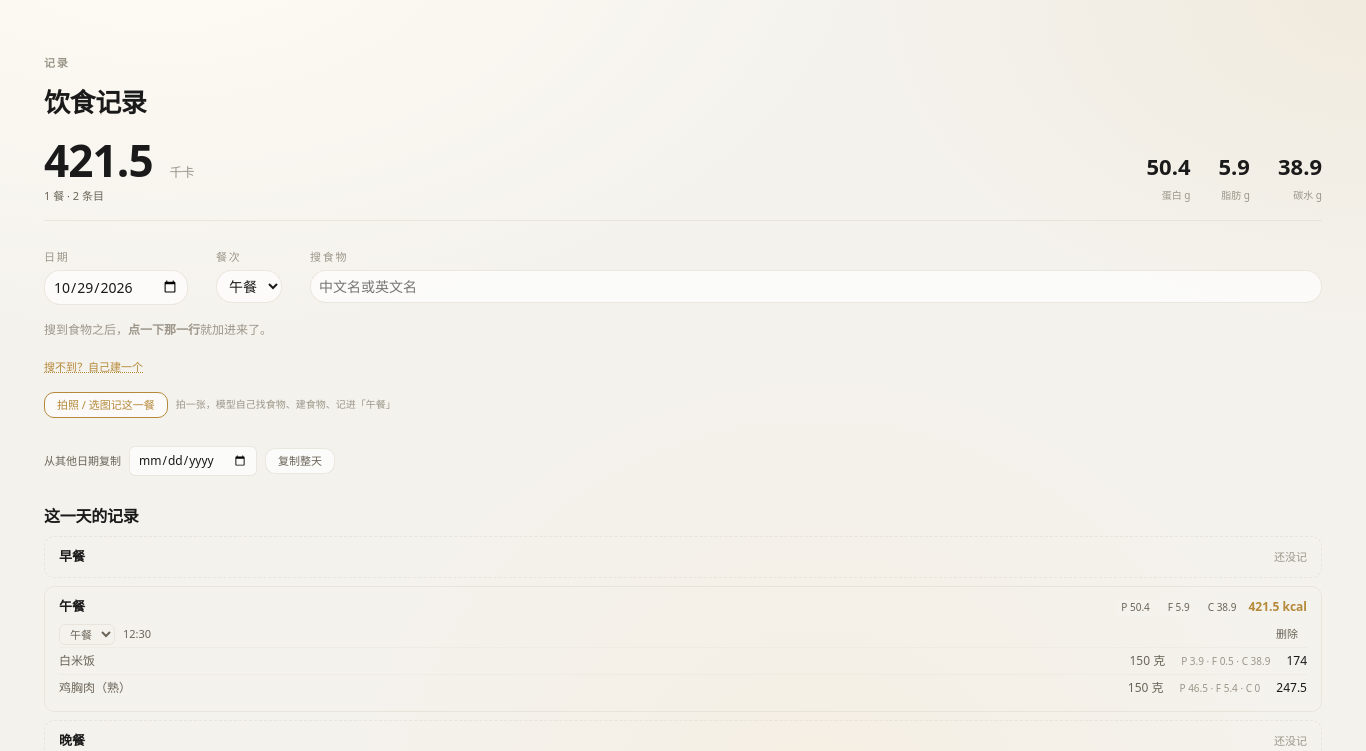
Test: 饮食记录页 · 搜食物与加条目 › the_total_preview_follows_the_rows
Type "白米饭" into the search field labelled "搜食物".
click(816, 286); type("白米饭")  # box [310,270,1322,302]
Wait 300 ms
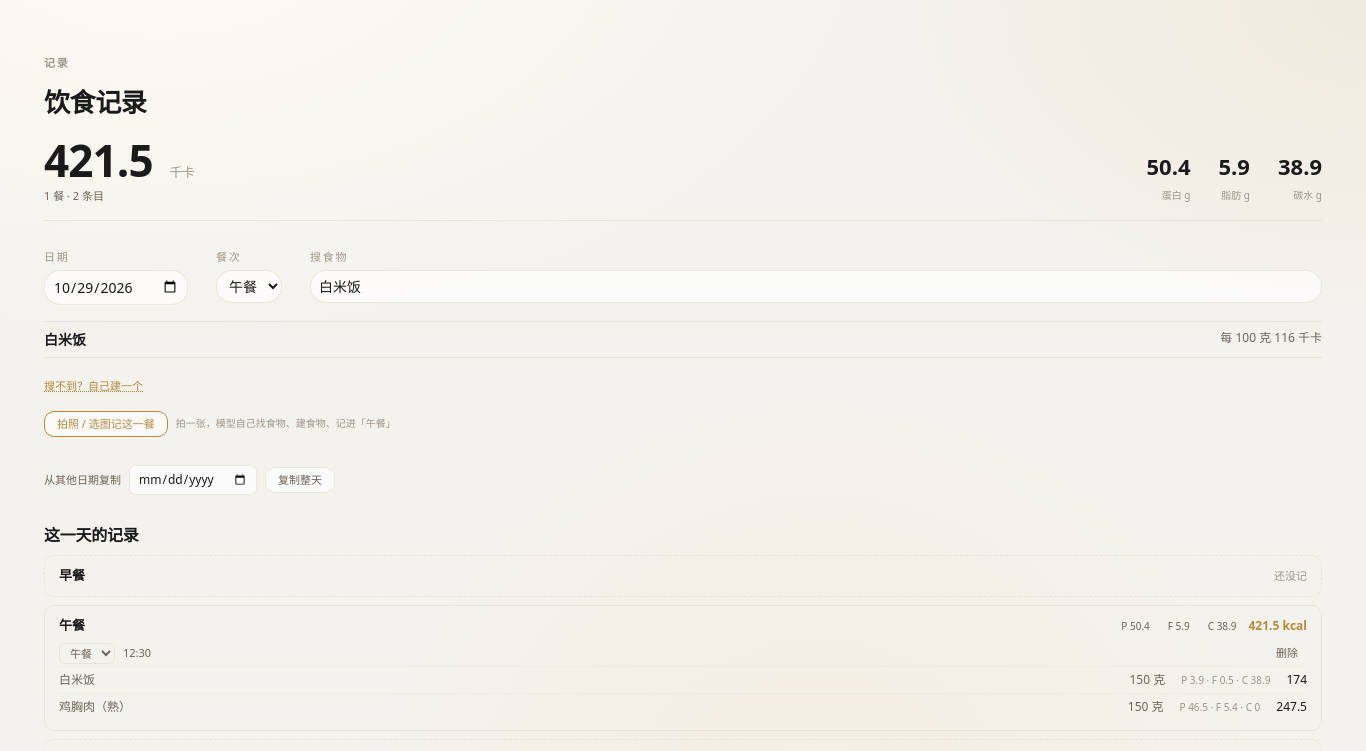
Click the button with class "food".
click(65, 339)  # box [44,322,1322,358]
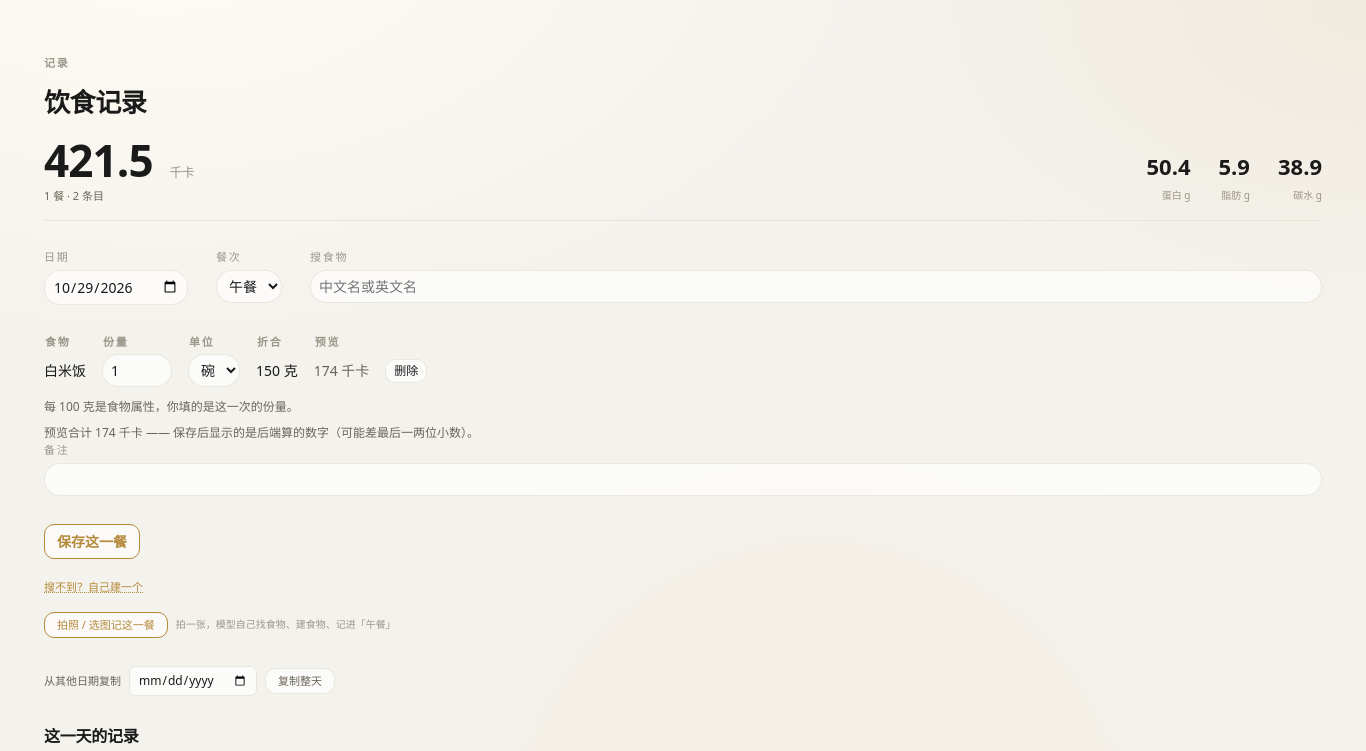
expect the text with class "total" shows "174": met, box [44,424,479,441]
Type "白米饭" into the search field labelled "搜食物".
click(816, 286); type("白米饭")  # box [310,270,1322,302]
Wait 300 ms
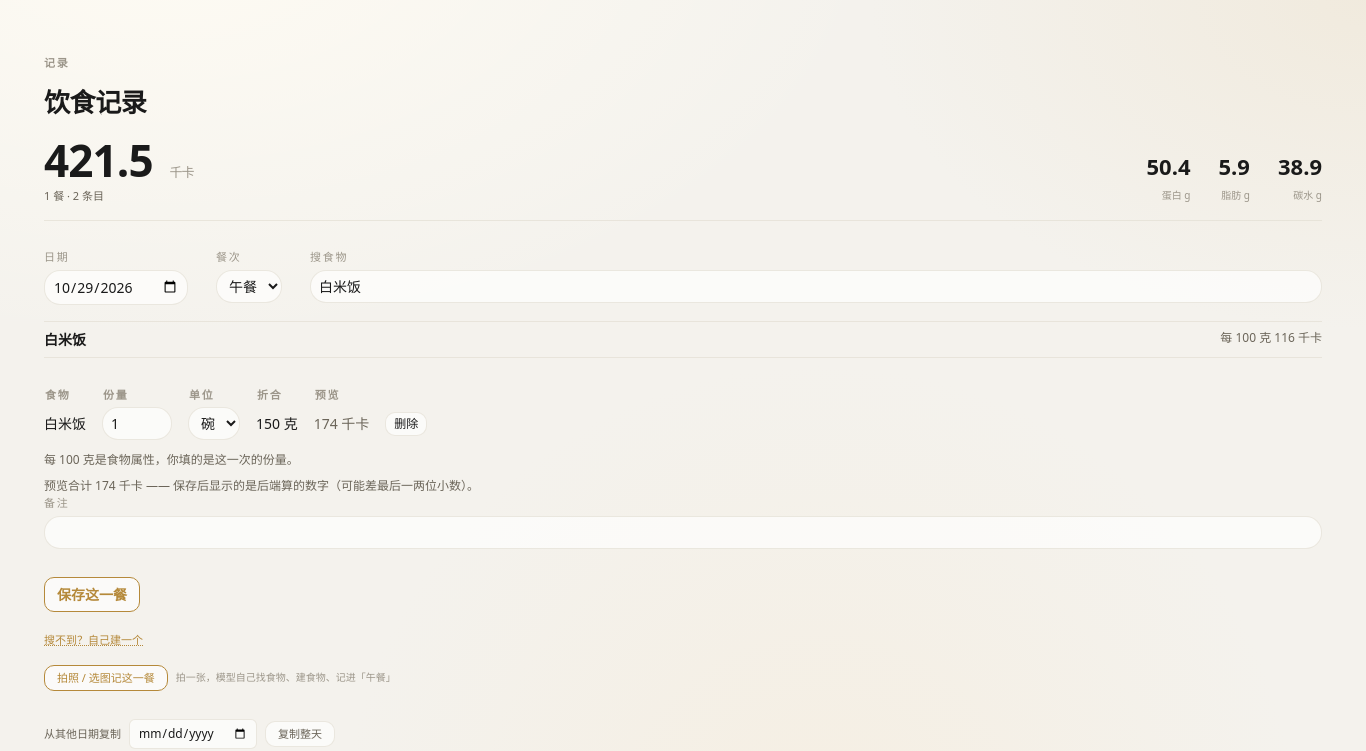
Click the button with class "food".
click(65, 339)  # box [44,322,1322,358]
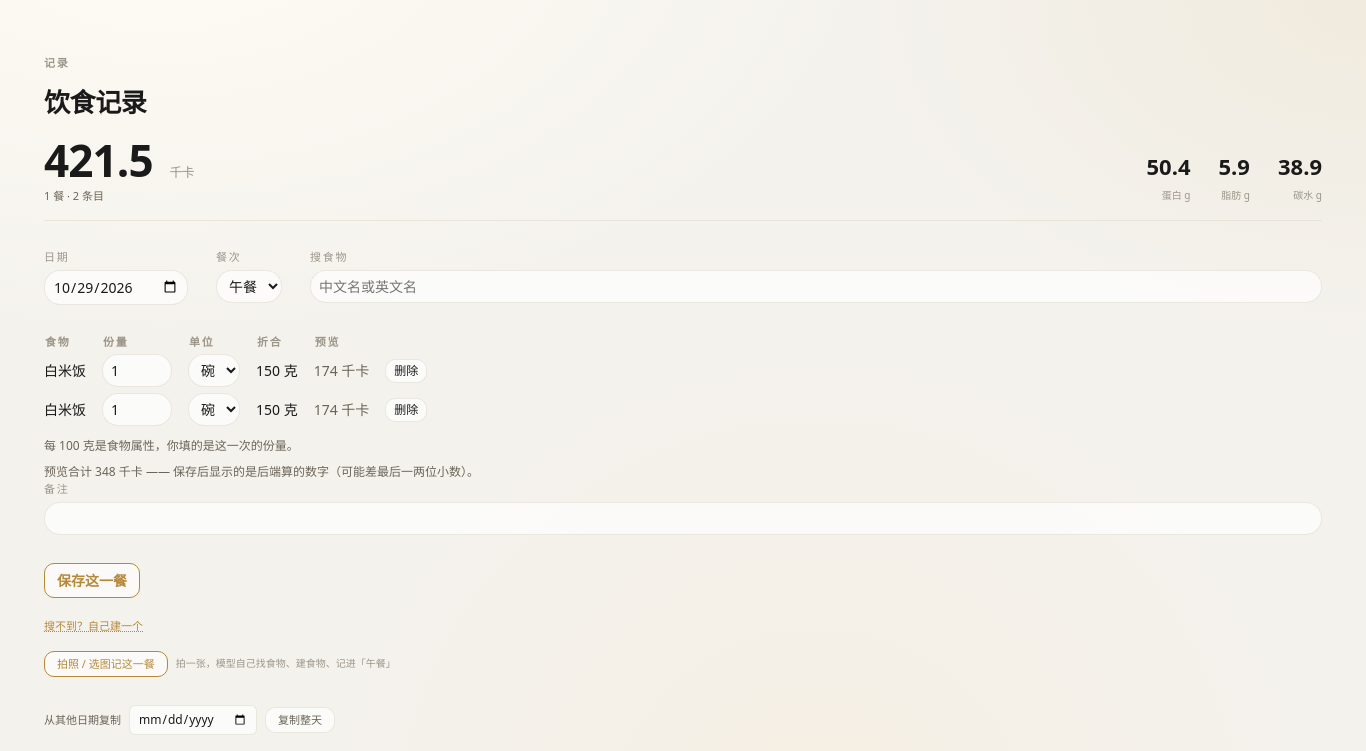
expect the number of rows with class "draft-row" is 2: met, box [44,351,443,390]; [44,390,443,429]
expect the text with class "total" shows "348": met, box [44,463,479,480]
